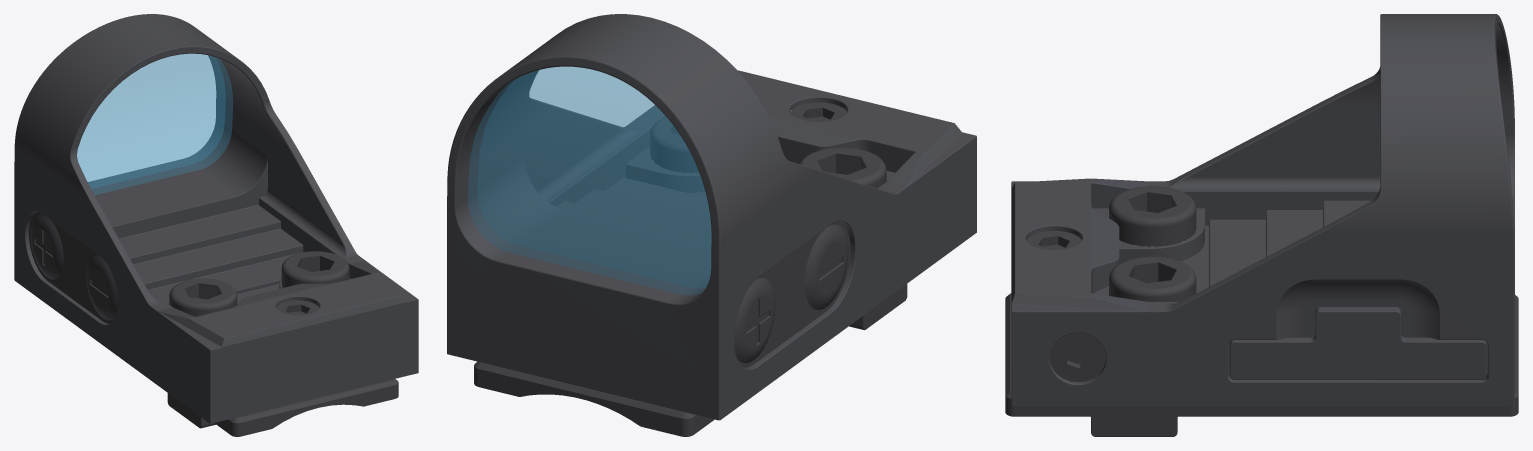
The model's file is rmr.glb.
3 views of the same model, side by side, from view 1: azimuth 30°, elevation 25°; view 2: azimuth 150°, elevation 25°; view 3: azimuth 270°, elevation 25° (orthographic). The views are drawn at different scales.
Parts seen in each view (by area): view 1: cmore, rmr plate; view 2: cmore, rmr plate; view 3: cmore, rmr plate.
Part boxes in pixels (x1,y1,x2,y2): cmore: (14,14,418,423); rmr plate: (167,379,398,436); cmore: (447,14,976,420); rmr plate: (474,280,907,436); cmore: (1011,14,1514,406); rmr plate: (1005,293,1518,436).
Bounding box in the file's own units: 0.0325 × 0.0413 × 0.054.
